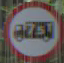Heavy Vehicles: (5, 3, 59, 57)
